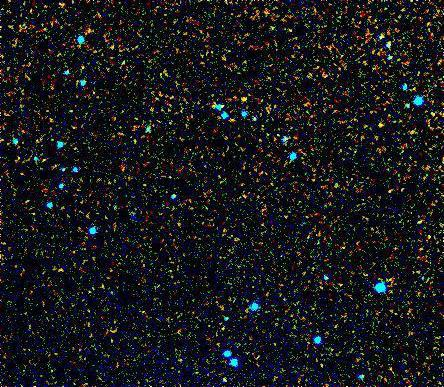star: (230, 85, 260, 115)
